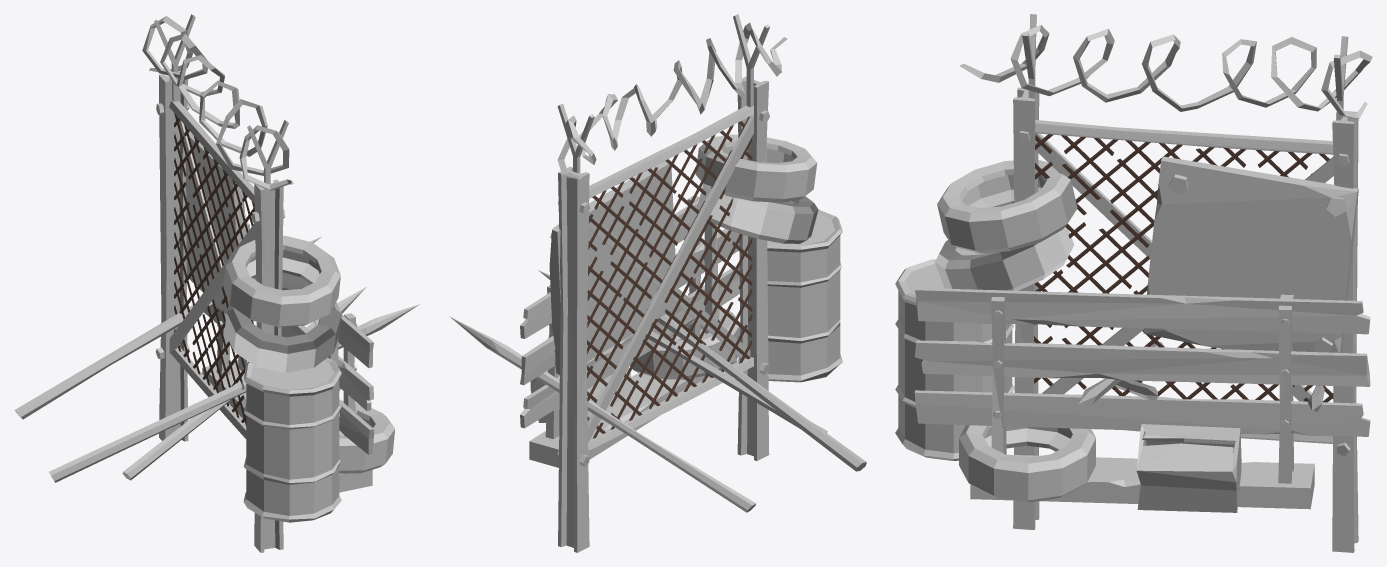
Rendered from SM_Prop_Wall_Junk_09.fbx.
3 renders of one model, left to right at view 1: azimuth 30°, elevation 25°; view 2: azimuth 150°, elevation 25°; view 3: azimuth 270°, elevation 25°, orthographic. The views are drawn at different scales.
Parts seen in each view (by area): view 1: SM_Prop_Wall_Junk_09; view 2: SM_Prop_Wall_Junk_09; view 3: SM_Prop_Wall_Junk_09.
Part boxes in pixels (x1,y1,x2,y2): SM_Prop_Wall_Junk_09: (14, 14, 419, 552); SM_Prop_Wall_Junk_09: (449, 14, 866, 552); SM_Prop_Wall_Junk_09: (895, 14, 1372, 552).
Bounding box in the file's own units: 279 × 334 × 288.
